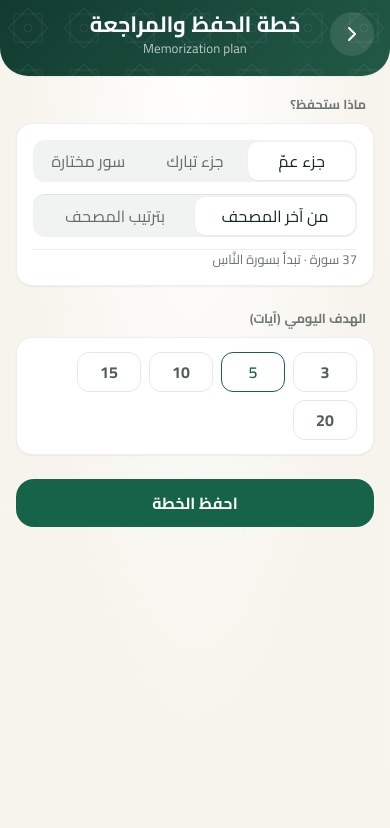
Test case: memorization plan screen › create a Juz Amma plan from the end of the Mushaf, then start today's portion in /recite
Later steps or results of the test are not shown.
Expected: the text "37 سورة · تبدأ بسورة النَّاسِ" is shown, left=33, top=249, right=357, bottom=269
Click the button "احفظ الخطة".
click(195, 502)  # box left=16, top=478, right=374, bottom=526
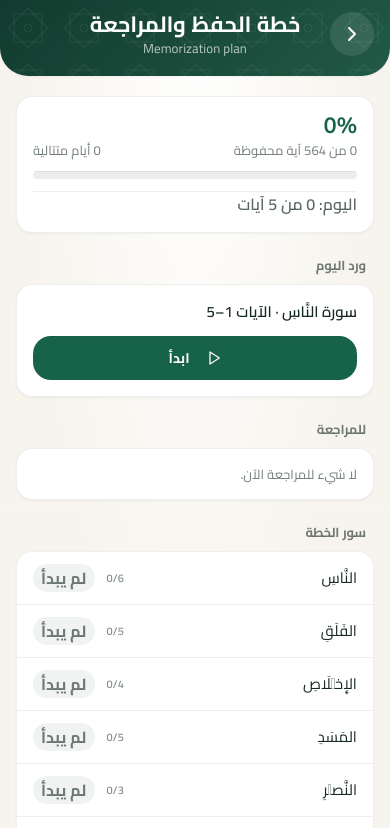
Now the text "0%" is shown, box left=323, top=111, right=357, bottom=141
